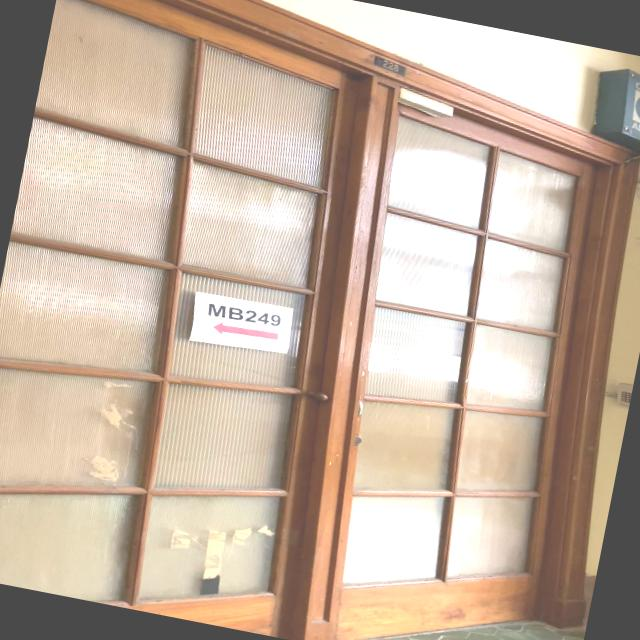room228: (370, 53, 410, 78)
